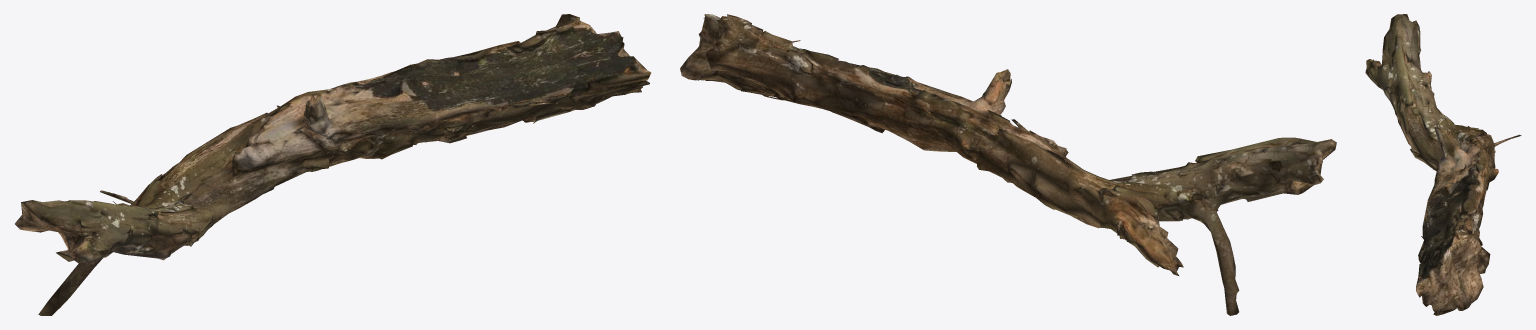
The model's file is dead_tree_trunk_02.glb.
3 views of the same model, side by side, from view 1: azimuth 30°, elevation 25°; view 2: azimuth 150°, elevation 25°; view 3: azimuth 270°, elevation 25° (orthographic). The views are drawn at different scales.
Visible parts, largest first — view 1: dead_tree_trunk_02; view 2: dead_tree_trunk_02; view 3: dead_tree_trunk_02.
Boxes of the visible parts, bbox=[...] form: dead_tree_trunk_02: bbox=[15, 14, 651, 315]; dead_tree_trunk_02: bbox=[680, 14, 1336, 315]; dead_tree_trunk_02: bbox=[1365, 14, 1521, 315].
Size of the model in its own units: 4.05 by 1.05 by 1.05.
1 material, 1 textured.
